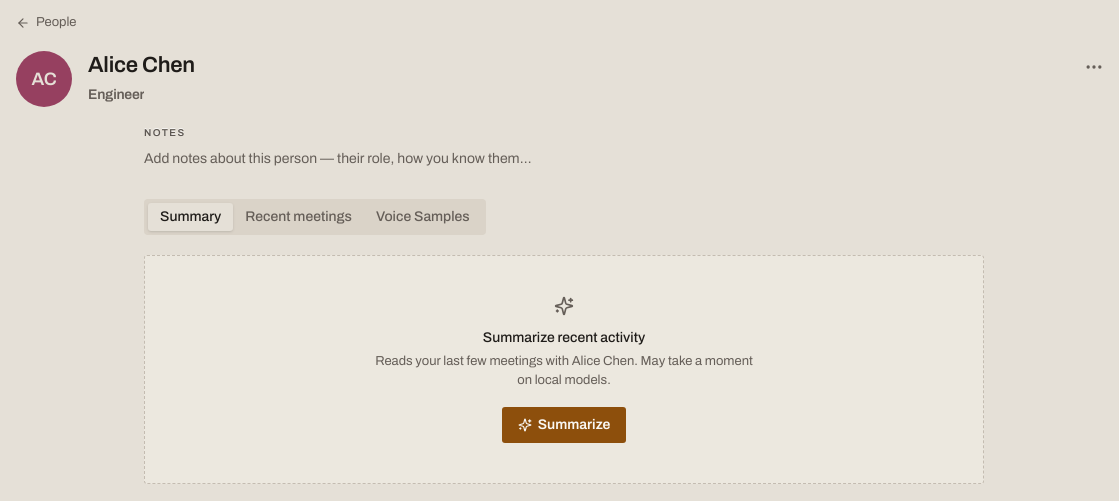
Scenario: PersonDetailsPage (specs/0038 dogfood feedback #3) › switches tabs — Recent meetings then Voice Samples mount their content
Expected: the button with aria-label "Person name" is shown, [80,49,227,81]
Click the tab "Recent meetings": click(299, 217) [233,203,364,231]
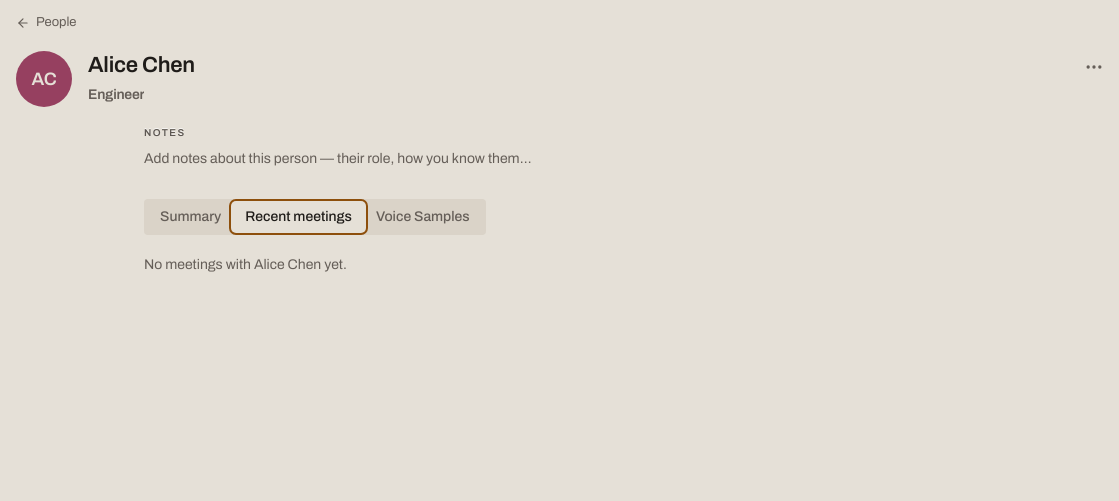
Result: the text "No meetings with Alice Chen yet." is shown at [144,257,347,272]
Click the tab "Voice Samples": click(423, 217) [364,203,482,231]
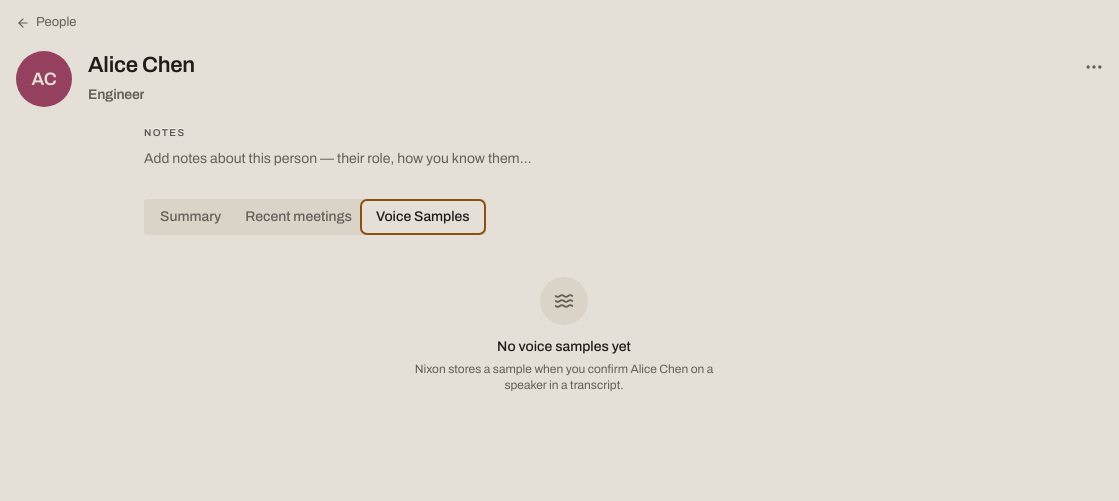
Result: the text "No voice samples yet" is shown at [497,337,631,357]
